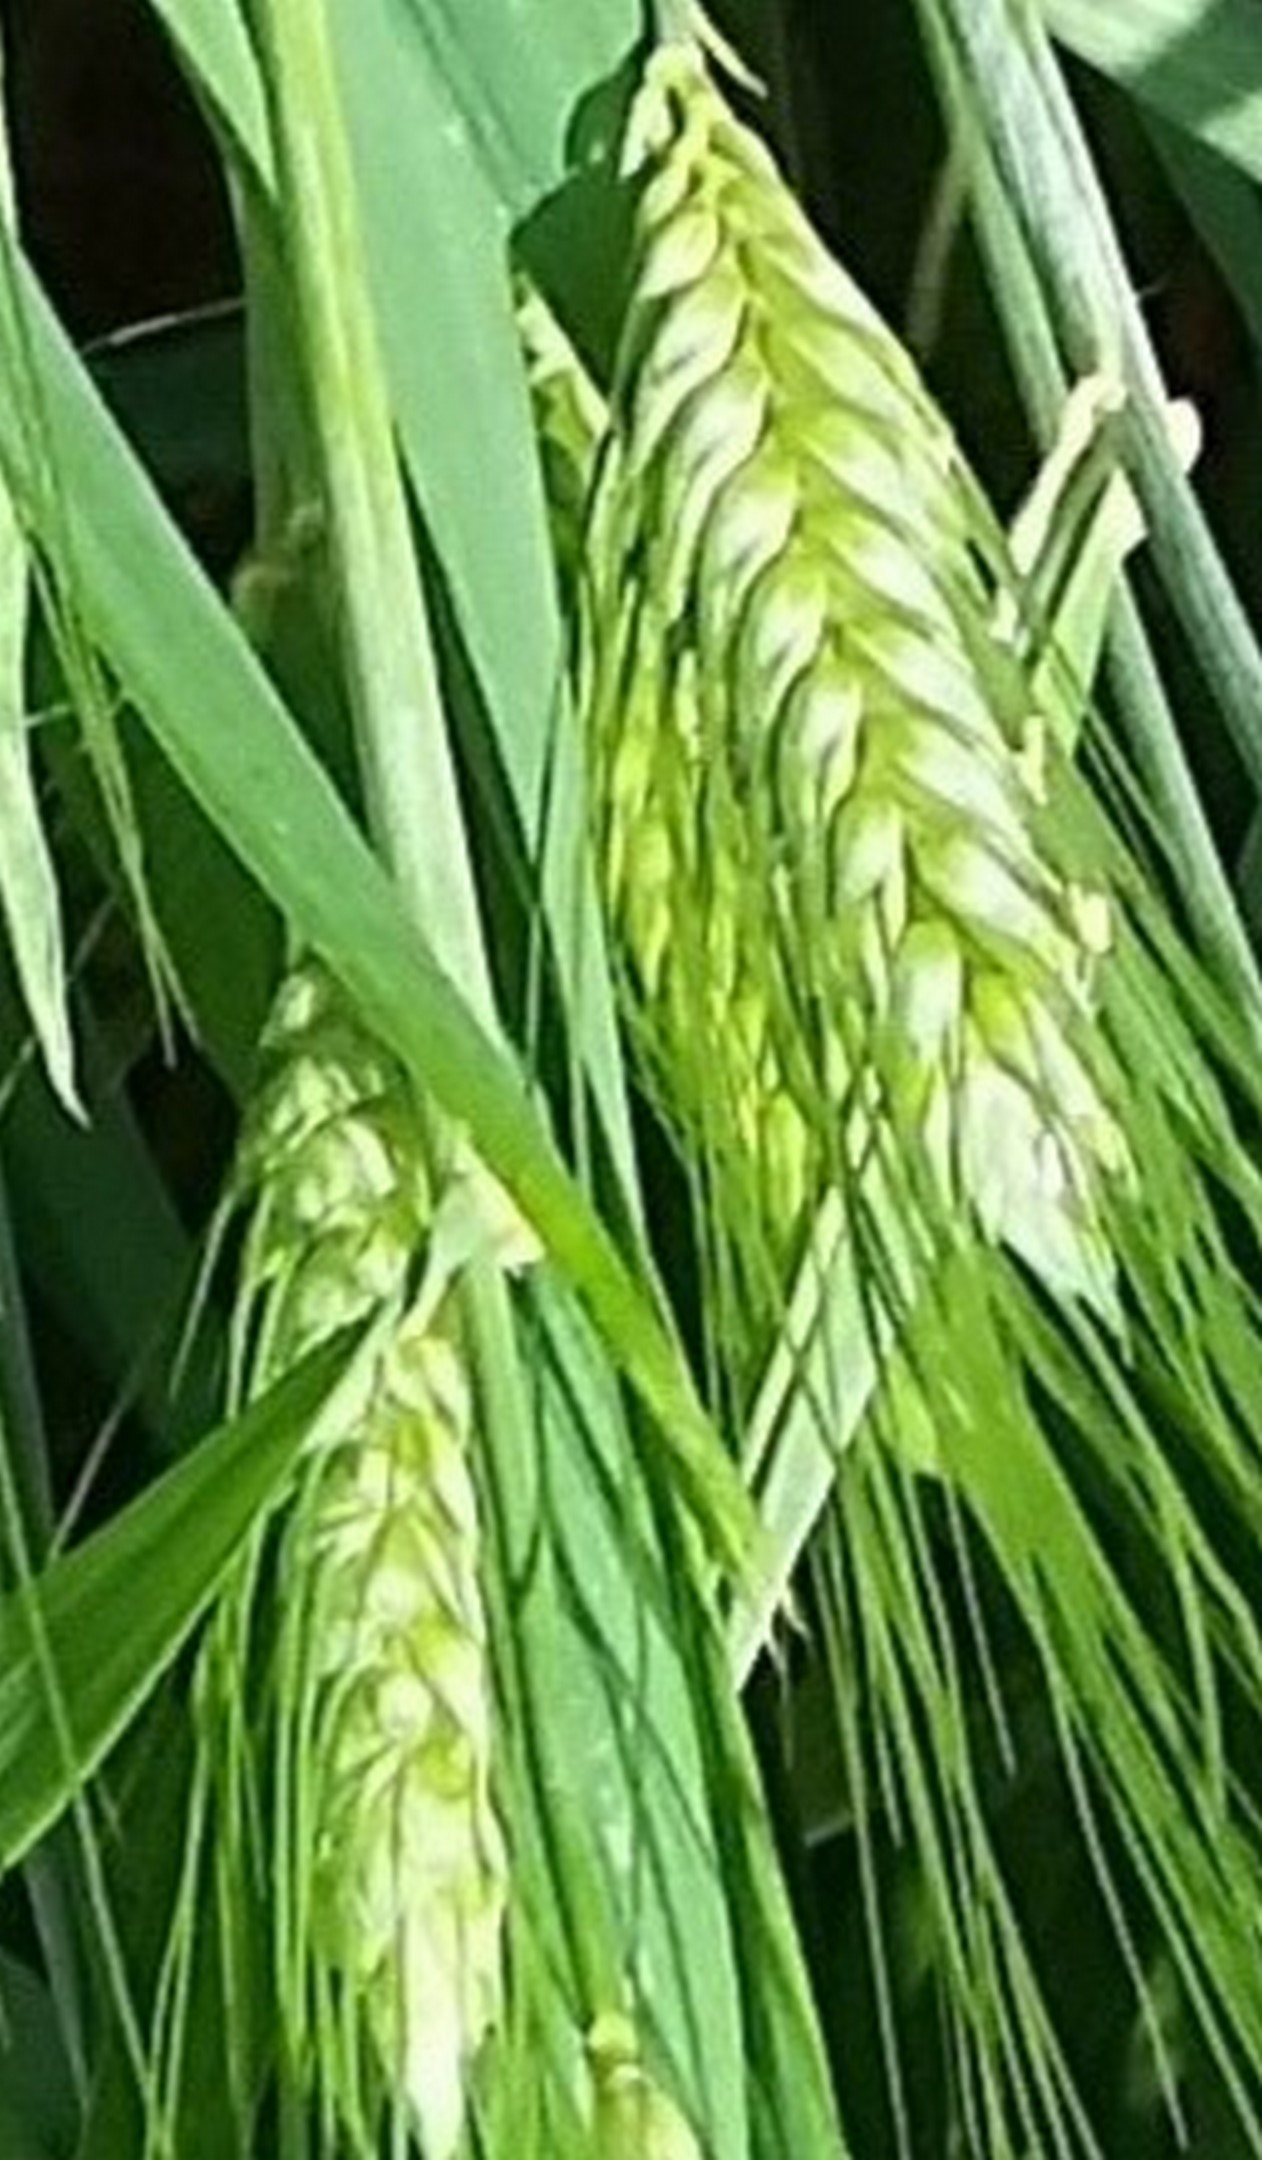Healthy Wheat: (560, 113, 1215, 1284)
